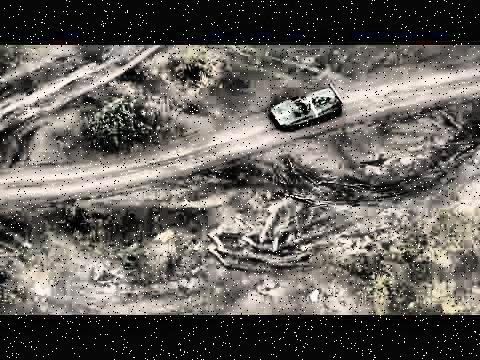military-vehicle: (270, 87, 346, 131)
